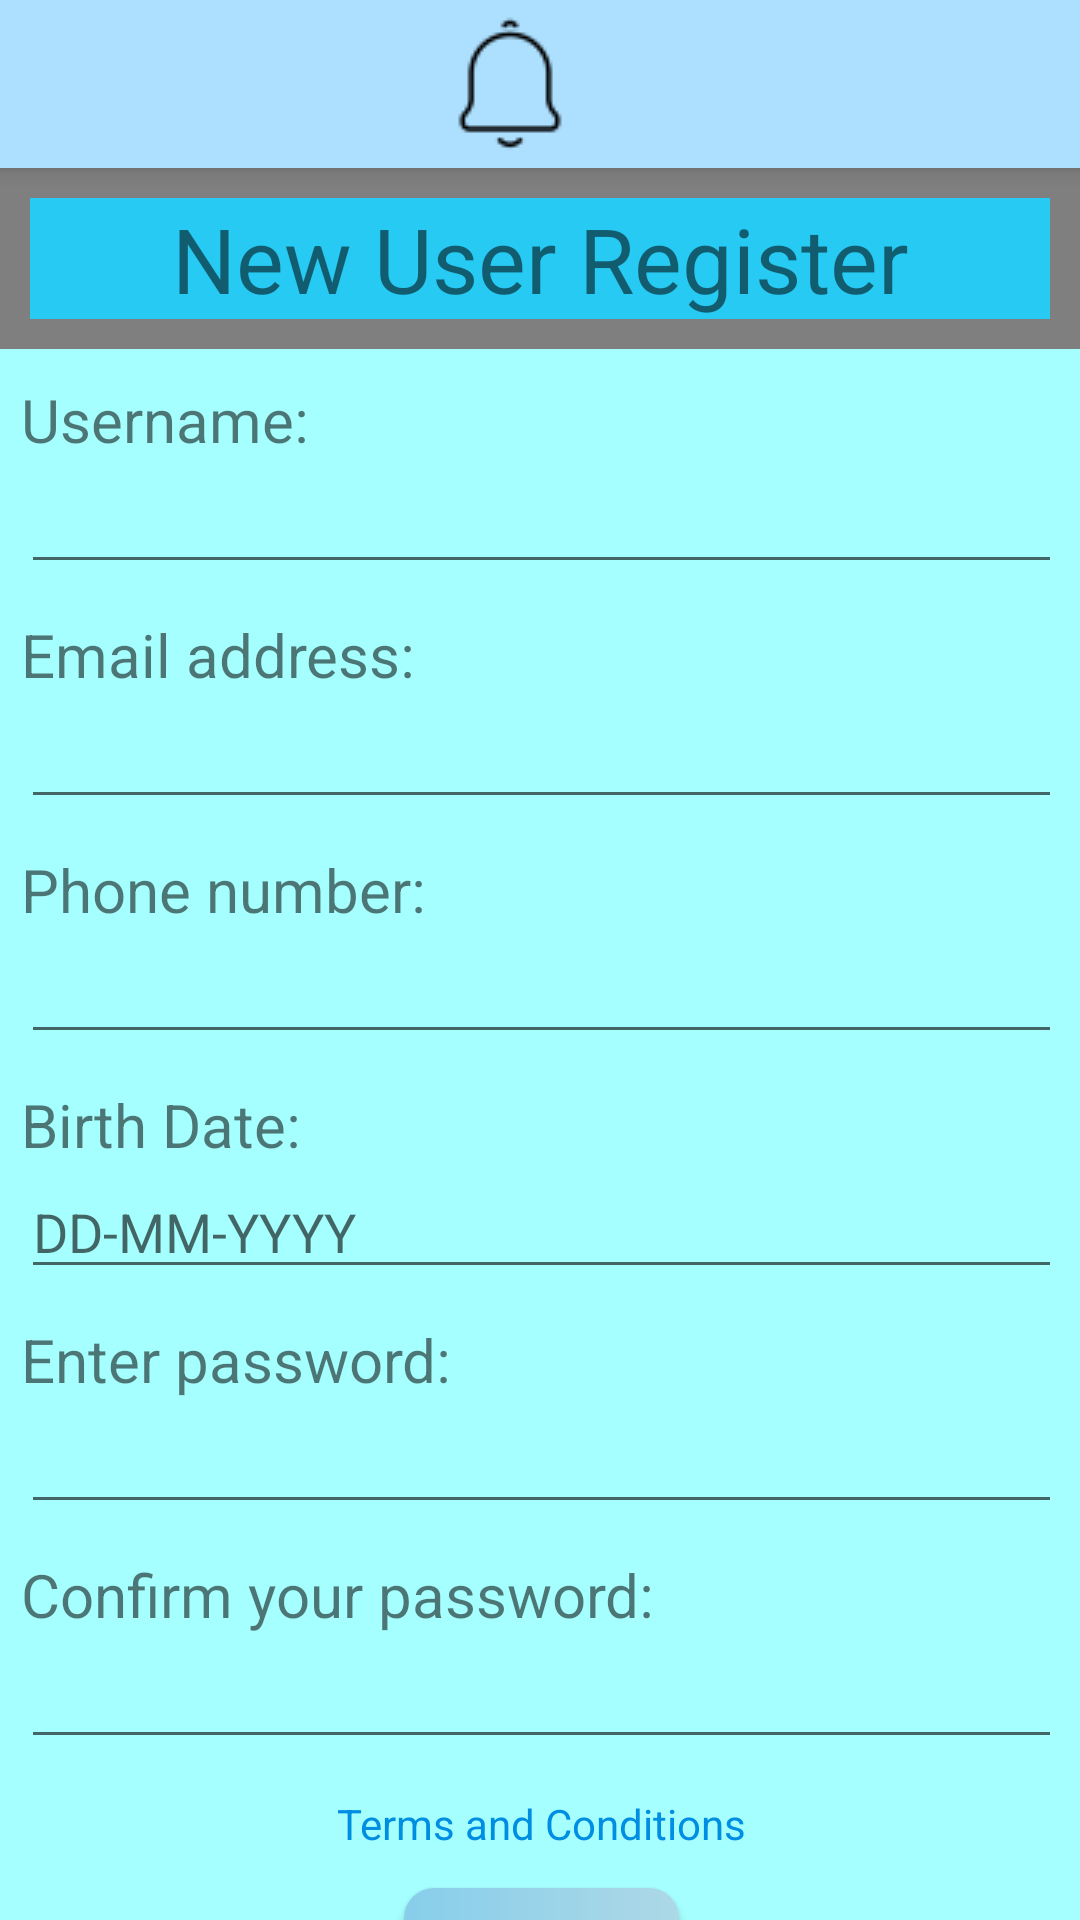

Where icons sit on this 1080×1920 app screen, as (x1, y1, x2, y2):
notification: (458, 18, 562, 148)
